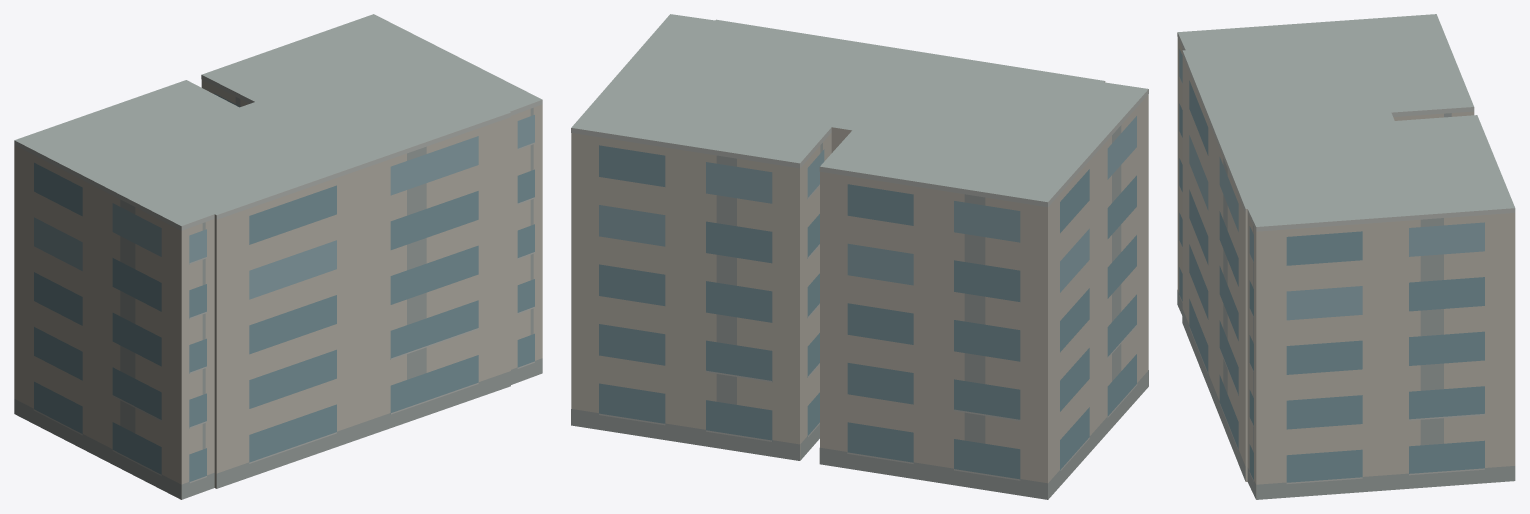
The model's file is survey-upis-32800102.glb.
The picture shows the model from 3 angles, left to right: view 1: azimuth 30°, elevation 25°; view 2: azimuth 150°, elevation 25°; view 3: azimuth 270°, elevation 25°; orthographic projection. The views are drawn at different scales.
Visible parts, largest first — view 1: survey-upis-32800102.tmp; view 2: survey-upis-32800102.tmp; view 3: survey-upis-32800102.tmp.
Part boxes in pixels (x1,y1,x2,y2): survey-upis-32800102.tmp: [14, 14, 542, 499]; survey-upis-32800102.tmp: [571, 14, 1148, 499]; survey-upis-32800102.tmp: [1177, 14, 1515, 499].
Size of the model in its own units: 24.12 by 14.4 by 16.17.
